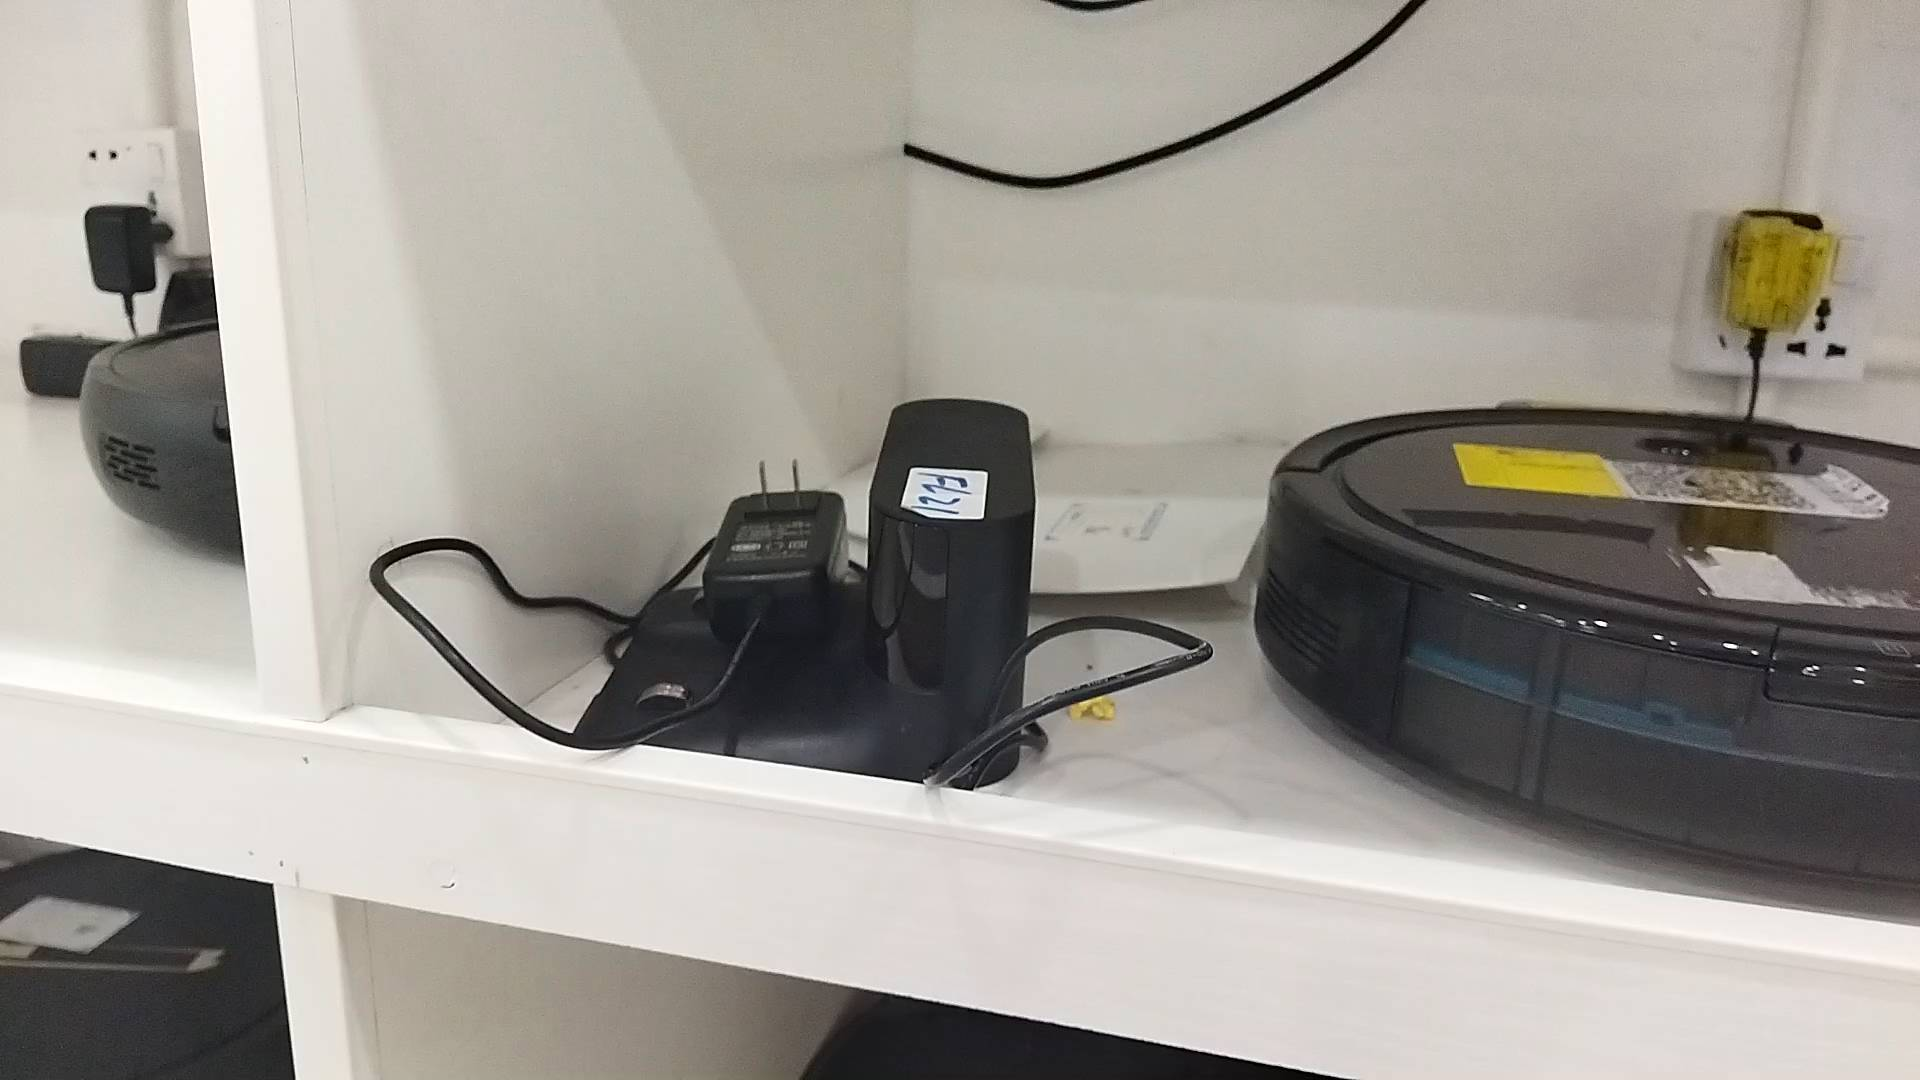recharge seat: (568, 397, 1039, 789)
